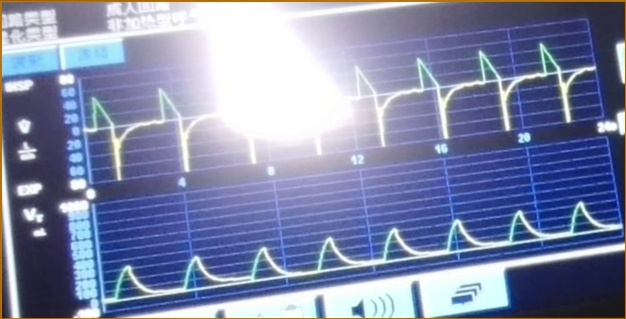Normal Flow: (86, 41, 596, 181)
Normal Volume: (110, 199, 622, 308)
